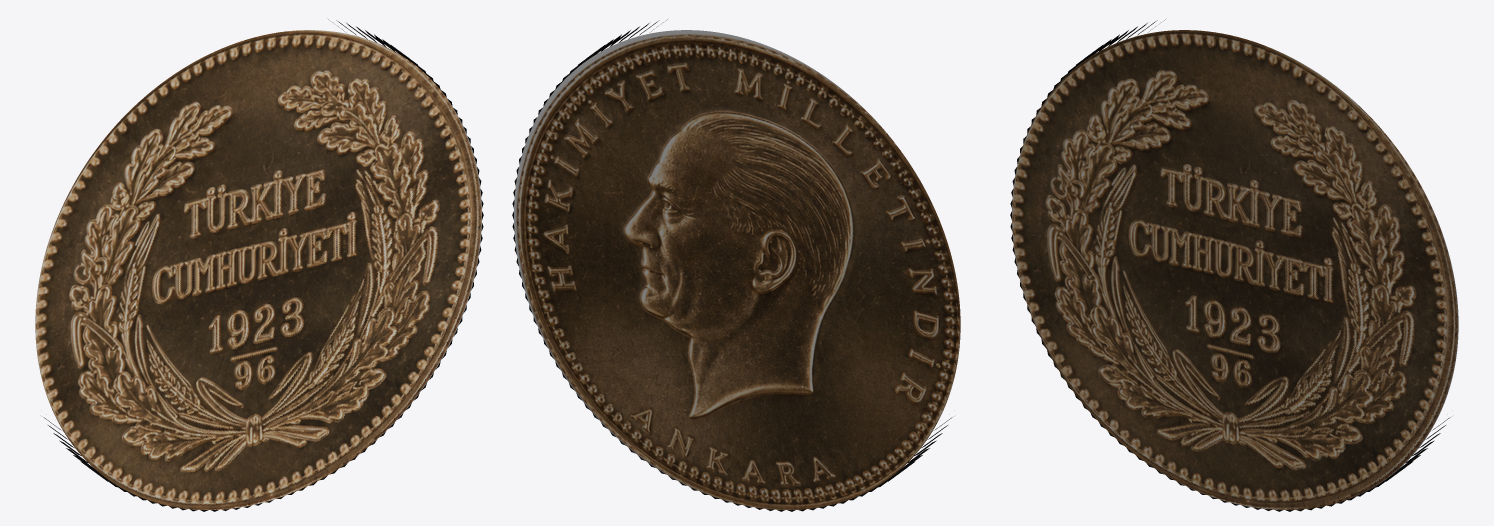
Rendered from turkey_coin3.glb.
The picture shows the model from 3 angles, left to right: view 1: azimuth 30°, elevation 25°; view 2: azimuth 150°, elevation 25°; view 3: azimuth 330°, elevation 25°; orthographic projection.
Parts seen in each view (by area): view 1: coin-Mat, coin-RS OpenPBR; view 2: coin-Mat, coin-RS OpenPBR; view 3: coin-Mat, coin-RS OpenPBR.
Boxes of the visible parts, <box> form: coin-Mat: <box>35,30,481,509</box>; coin-RS OpenPBR: <box>43,19,483,511</box>; coin-Mat: <box>514,30,960,509</box>; coin-RS OpenPBR: <box>512,19,952,511</box>; coin-Mat: <box>1012,30,1458,509</box>; coin-RS OpenPBR: <box>1010,19,1450,511</box>.
Bounding box in the file's own units: 40.32 × 40.32 × 3.01.
3 materials, 2 textured.
